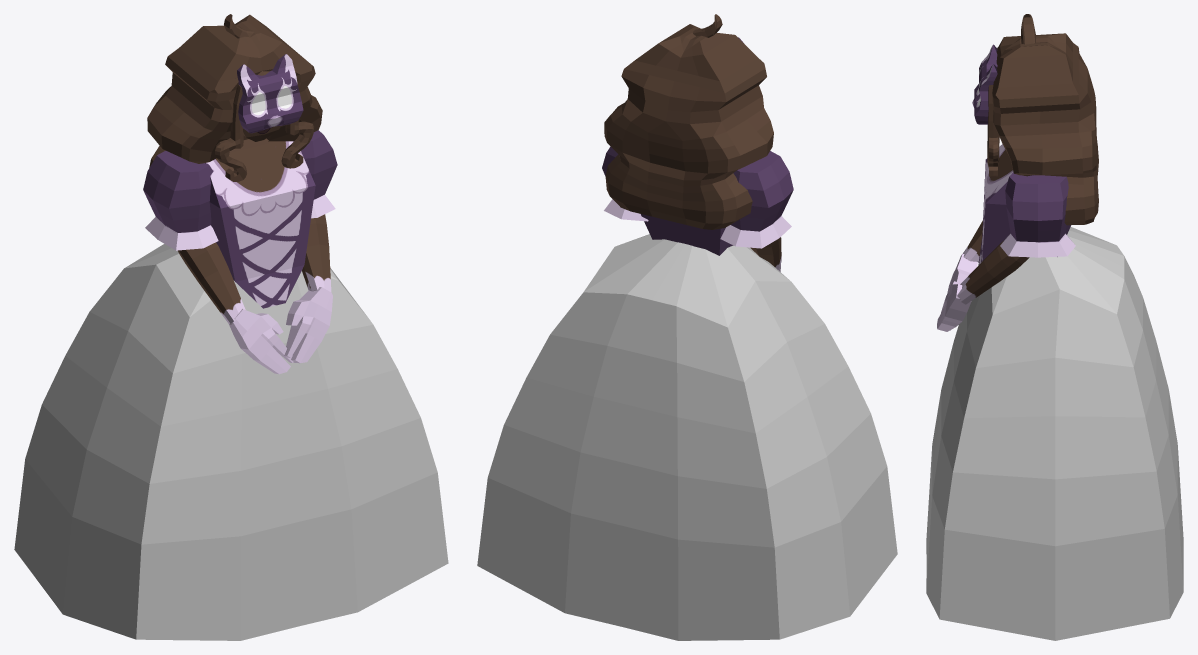
Rendered from Cat.fbx.
3 renders of one model, left to right at view 1: azimuth 30°, elevation 25°; view 2: azimuth 150°, elevation 25°; view 3: azimuth 270°, elevation 25°, orthographic. The views are drawn at different scales.
Visible parts, largest first — view 1: Cube.007, Cube.005, Cube, Cube.017, Cube.025, Cube.006; view 2: Cube.007, Cube.005, Cube.025, Cube; view 3: Cube.007, Cube.005, Cube.025, Cube.017, Cube, Cube.006.
Boxes of the visible parts, left/top/right/bottom form: Cube.007: left=14, top=244, right=448, bottom=640; Cube.005: left=147, top=14, right=322, bottom=181; Cube: left=205, top=135, right=315, bottom=308; Cube.017: left=178, top=214, right=332, bottom=374; Cube.025: left=143, top=130, right=337, bottom=250; Cube.006: left=237, top=54, right=303, bottom=133; Cube.007: left=477, top=234, right=897, bottom=640; Cube.005: left=604, top=14, right=773, bottom=229; Cube.025: left=602, top=146, right=793, bottom=248; Cube: left=641, top=214, right=733, bottom=255; Cube.007: left=926, top=227, right=1183, bottom=640; Cube.005: left=987, top=14, right=1098, bottom=225; Cube.025: left=1000, top=172, right=1075, bottom=257; Cube.017: left=937, top=220, right=1029, bottom=331; Cube: left=978, top=144, right=1071, bottom=265; Cube.006: left=972, top=44, right=997, bottom=124.
Size of the model in its own units: 155 by 254 by 109.
